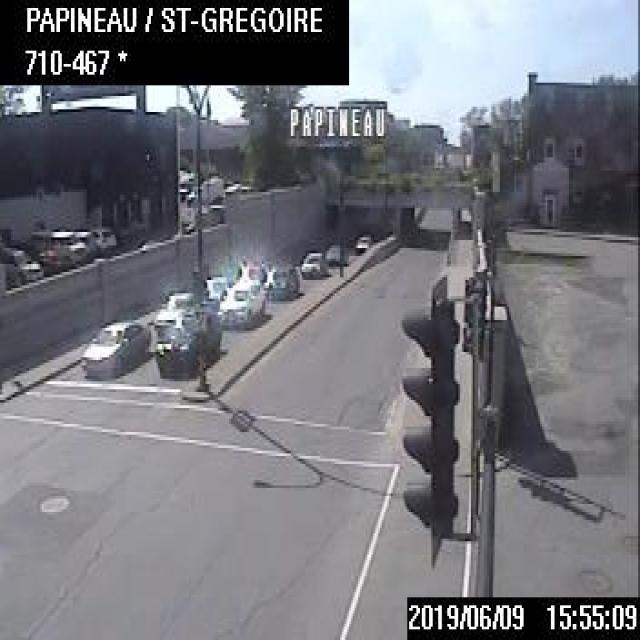vehicle: (153, 303, 221, 374), (80, 315, 147, 376), (222, 276, 264, 331), (0, 241, 44, 284), (44, 225, 88, 266), (152, 289, 192, 329), (263, 260, 300, 300), (198, 274, 232, 306), (89, 227, 118, 256), (300, 250, 326, 275), (326, 242, 348, 261), (354, 232, 371, 251)
